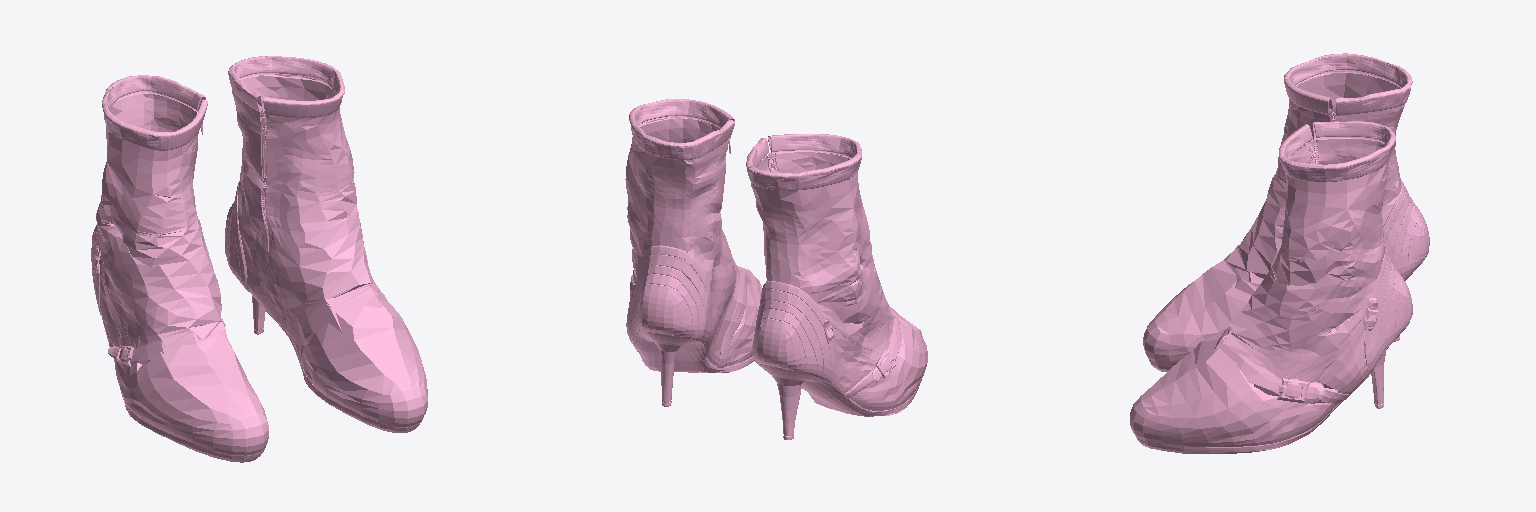
File: gaogenxie3.obj
3 renders of one model, left to right at view 1: azimuth 30°, elevation 25°; view 2: azimuth 150°, elevation 25°; view 3: azimuth 270°, elevation 25°, orthographic.
Parts seen in each view (by area): view 1: file.001; view 2: file.001; view 3: file.001.
Part boxes in pixels (bbox=[...]): file.001: bbox=[91, 56, 427, 462]; file.001: bbox=[625, 99, 927, 439]; file.001: bbox=[1130, 53, 1429, 453].
Bounding box in the file's own units: 2.15 × 2.31 × 2.13.